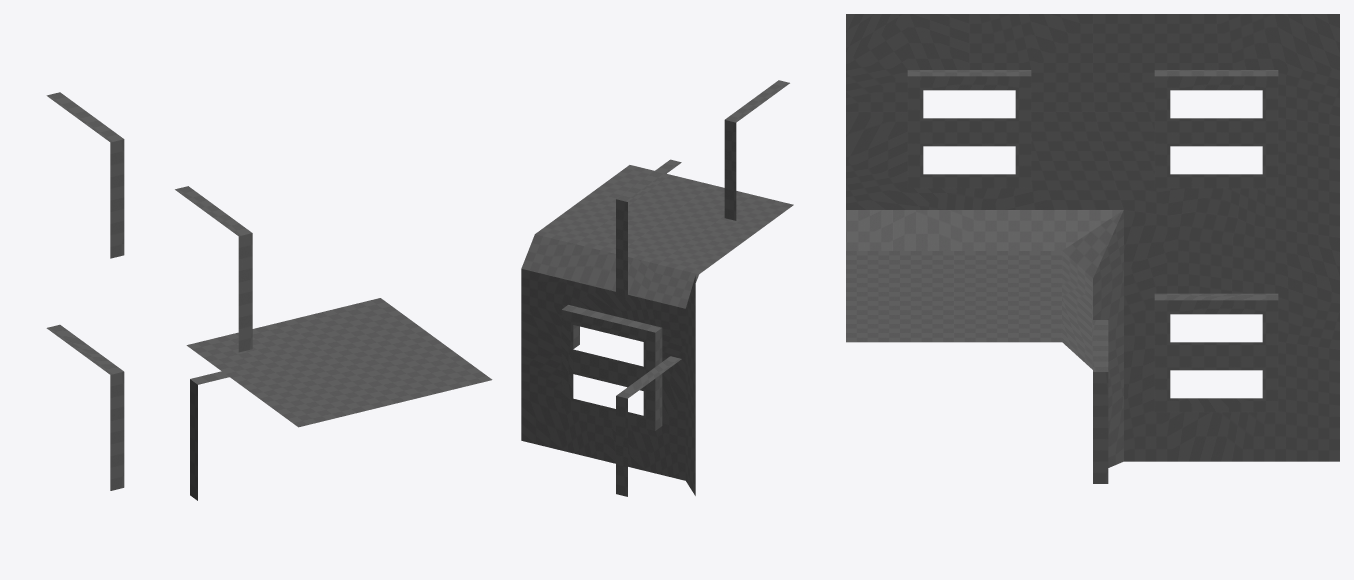
3 renders of one model, left to right at view 1: azimuth 30°, elevation 25°; view 2: azimuth 150°, elevation 25°; view 3: azimuth 270°, elevation 25°, orthographic. The views are drawn at different scales.
Parts seen in each view (by area): view 1: 4; view 2: 4; view 3: 4.
Boxes of the visible parts, x1,y1,x2,y2 form: 4: (46, 92, 492, 500); 4: (521, 80, 793, 496); 4: (846, 14, 1339, 483).
Bounding box in the file's own units: 2 × 4 × 4.
Materials: 2 (2 with a texture image).
